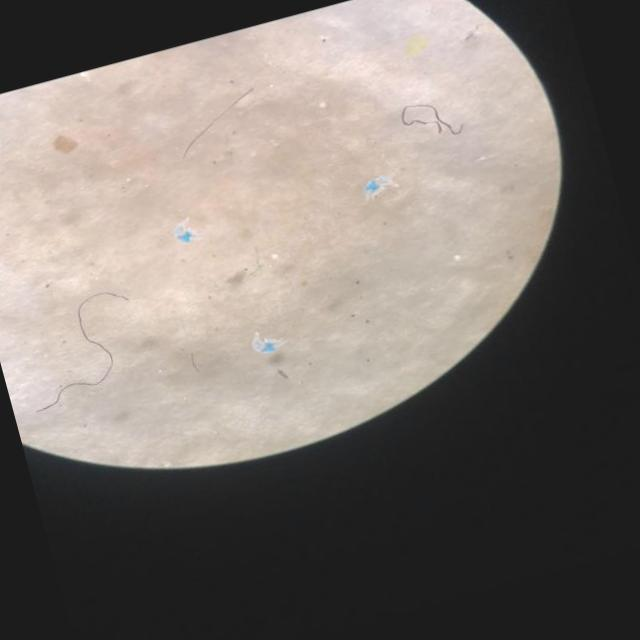fiber: (37, 292, 112, 411), (183, 88, 257, 157), (400, 104, 463, 135)
film: (364, 176, 390, 191), (253, 335, 274, 351), (176, 224, 194, 241)
fragment: (52, 135, 78, 154), (406, 36, 427, 55)
pellet: (272, 253, 278, 260), (320, 101, 326, 107), (455, 255, 461, 260)
